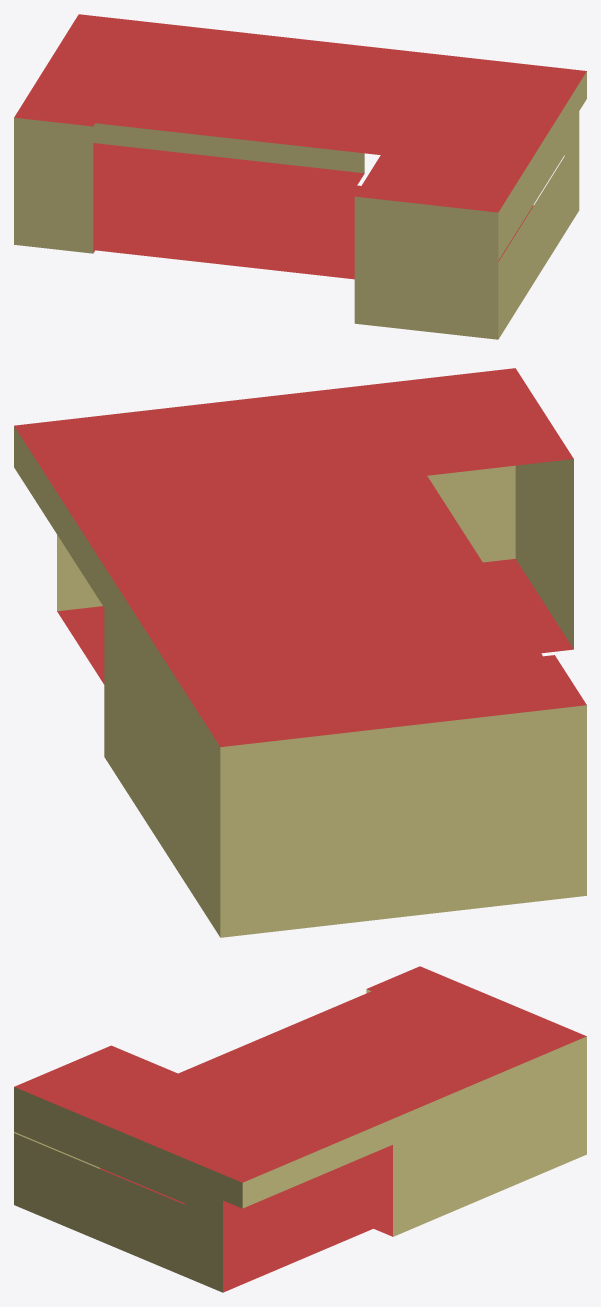
3 renders of one model, top to bottom at view 1: azimuth 30°, elevation 25°; view 2: azimuth 150°, elevation 25°; view 3: azimuth 270°, elevation 25°, orthographic. The views are drawn at different scales.
Bounding box in the file's own units: 36.27 × 40.55 × 9.23.
